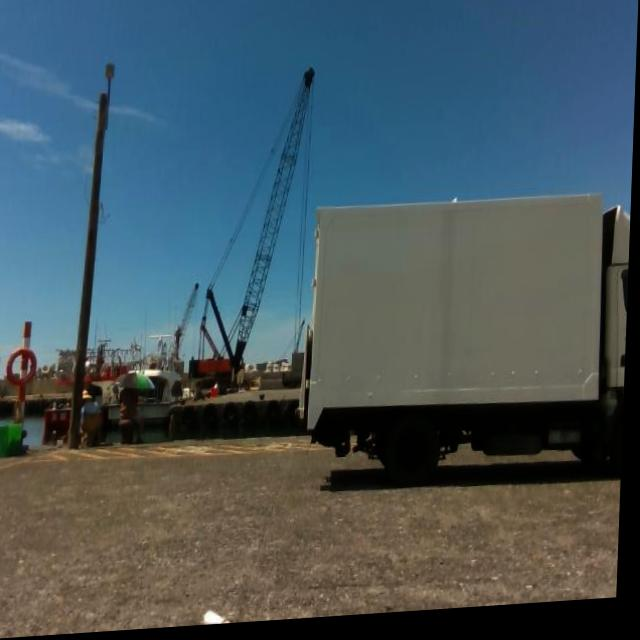pollute: (205, 610, 239, 628)
